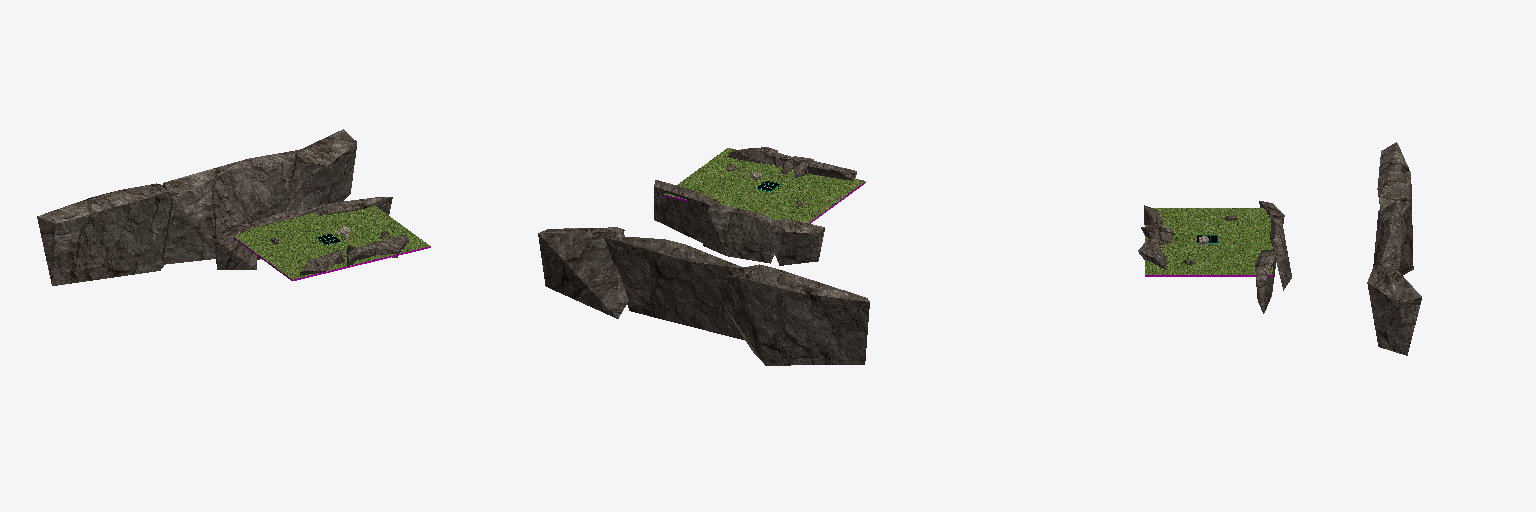
3 renders of one model, left to right at view 1: azimuth 30°, elevation 25°; view 2: azimuth 150°, elevation 25°; view 3: azimuth 270°, elevation 25°, orthographic.
Parts seen in each view (by area): view 1: Cube_Cube.001; view 2: Cube_Cube.001; view 3: Cube_Cube.001.
Boxes of the visible parts, x1,y1,x2,y2 form: Cube_Cube.001: [37, 129, 430, 285]; Cube_Cube.001: [538, 147, 869, 365]; Cube_Cube.001: [1138, 142, 1421, 355].
Size of the model in its own units: 290 by 78.62 by 223.
Materials: 6 (4 with a texture image).